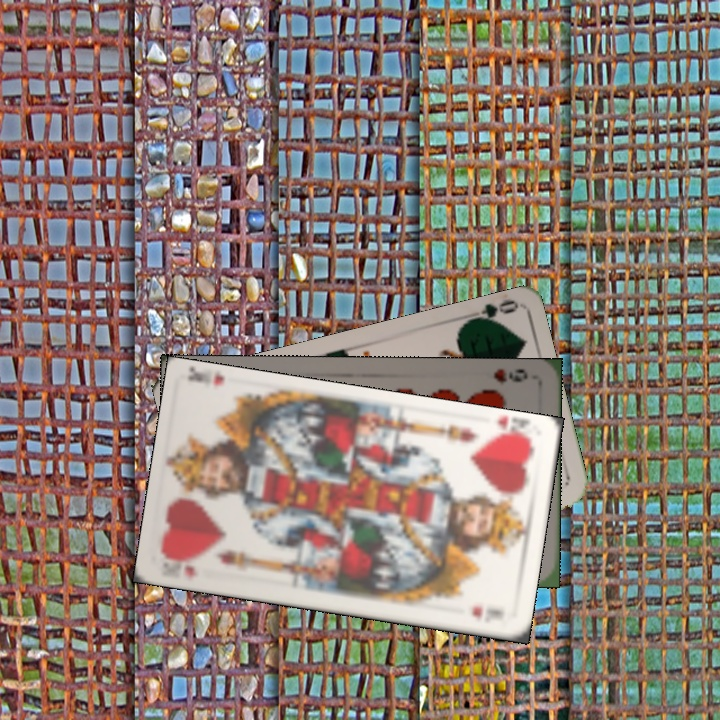GO: (460, 296, 518, 327)
H9: (490, 365, 530, 387)
HK: (489, 415, 533, 447), (159, 551, 203, 582)
